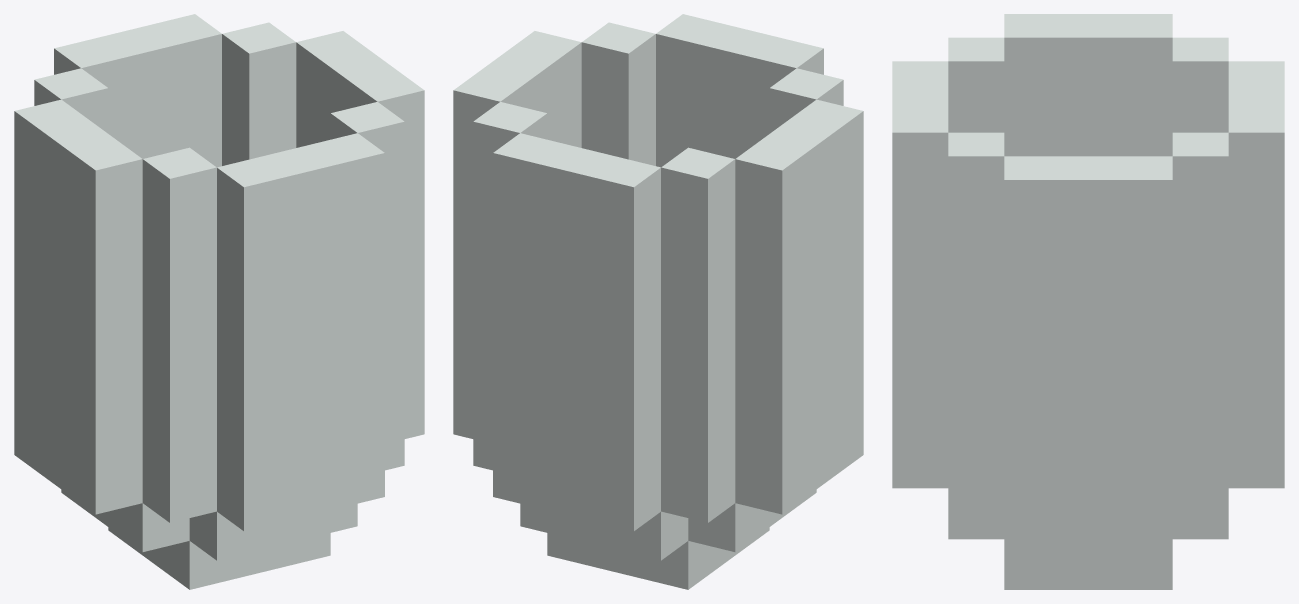
File: Verre.obj
3 renders of one model, left to right at view 1: azimuth 30°, elevation 25°; view 2: azimuth 150°, elevation 25°; view 3: azimuth 270°, elevation 25°, orthographic. The views are drawn at different scales.
Parts seen in each view (by area): view 1: Verre; view 2: Verre; view 3: Verre.
Part boxes in pixels (<box>): Verre: <box>14,14,424,589</box>; Verre: <box>453,14,863,589</box>; Verre: <box>892,14,1284,589</box>.
Size of the model in its own units: 7 by 9 by 7.
Materials: 1 (1 with a texture image).
